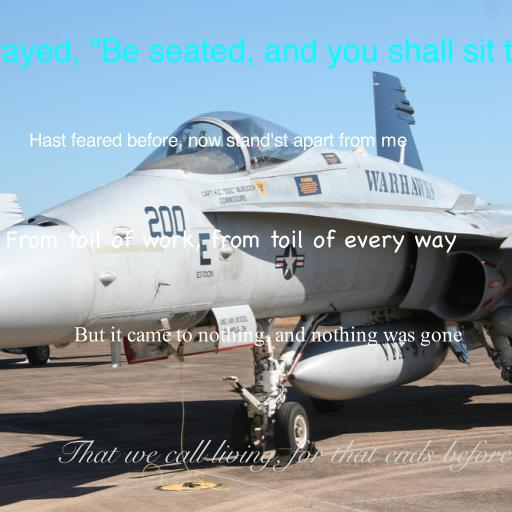Big Caslon: (0, 38, 512, 69)
Chalkboard: (5, 229, 457, 253)
SignPainter: (29, 132, 407, 151)
Snell Roundhand: (55, 440, 511, 472)
Times New Roman: (74, 326, 462, 347)
